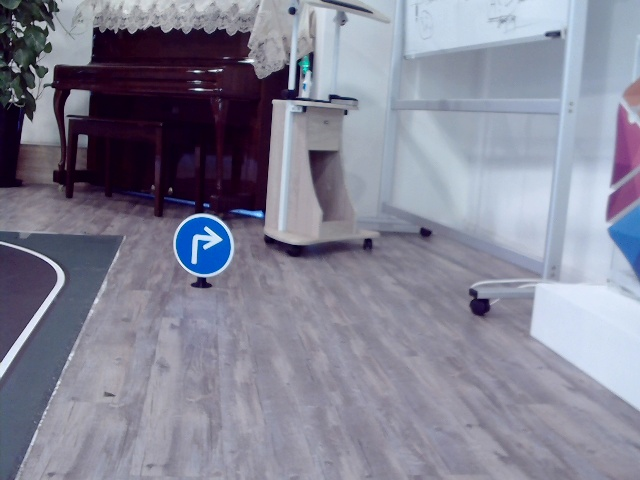turn_right: (188, 223, 222, 264)
